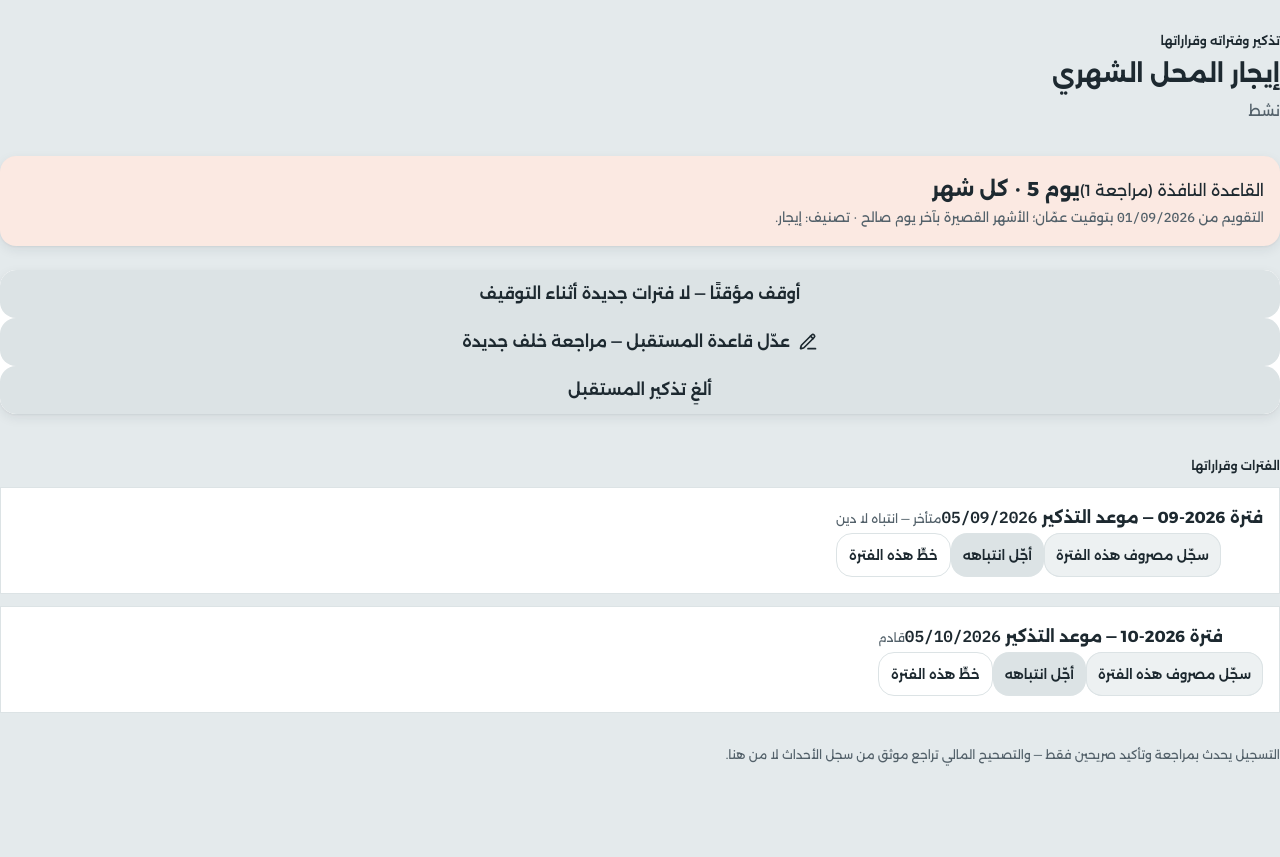
Test: OPS-003 — لوحة التأكيد (DOM) › غياب المبلغ رفض صادر بلا كتابة — «لم يُسجل المصروف» لا يظهر لأن شيئًا لم يُدَّع
Click the button "سجّل مصروف هذه الفترة" below "2026-09" at (1133, 555), box [1044,533,1221,577]
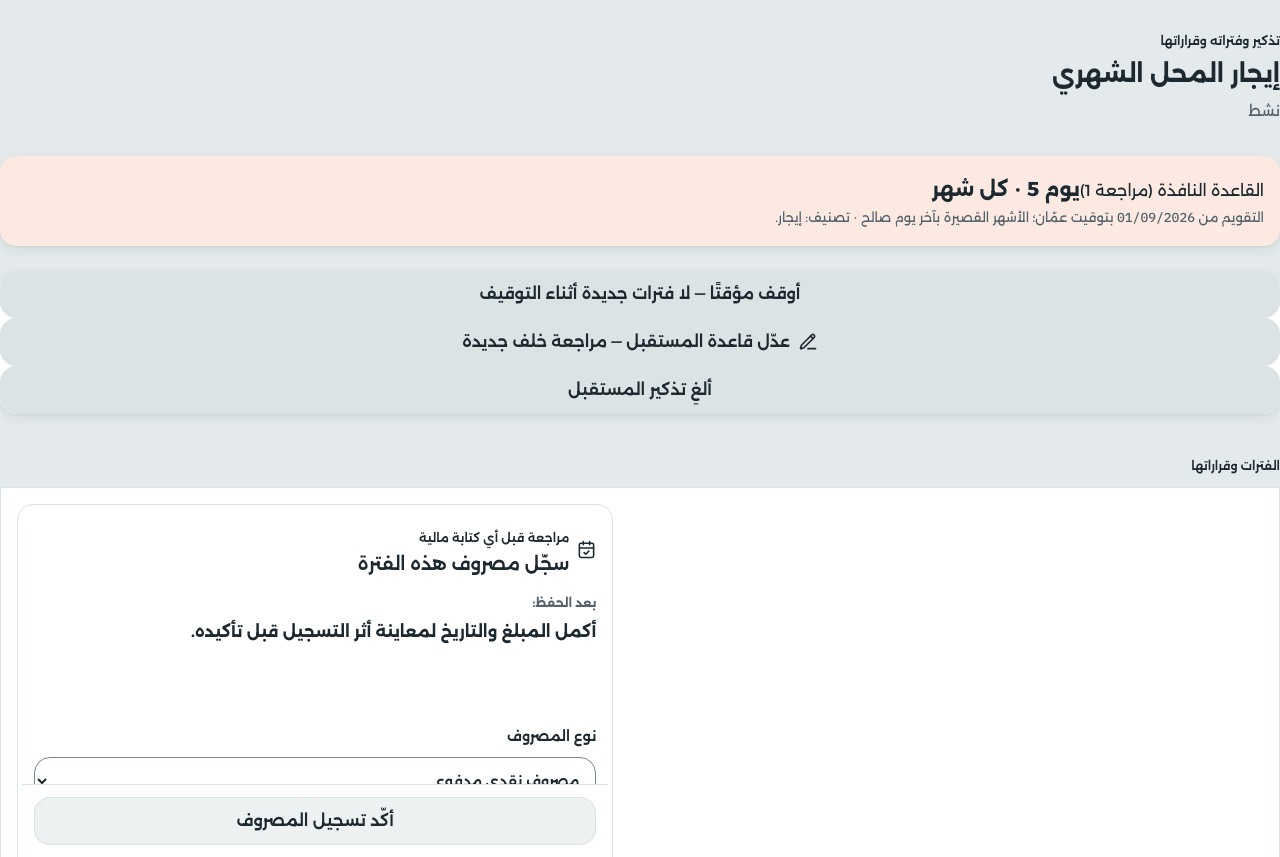
Click the button "أكّد تسجيل المصروف" at (315, 821), box [34,797,596,845]
(page scrolled)
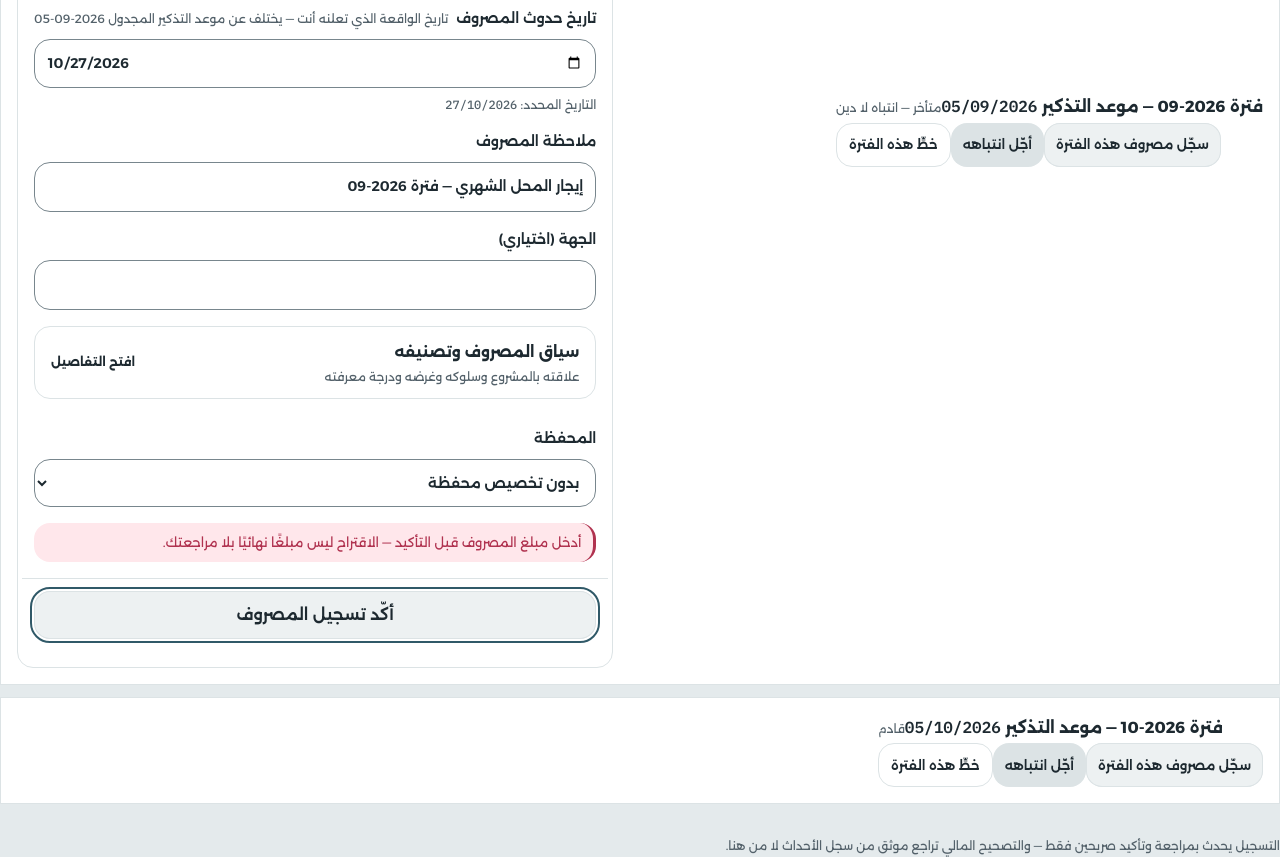
expect the text "أدخل مبلغ المصروف قبل التأكيد — الاقتراح ليس مبلغًا نهائيًا بلا مراجعتك." is shown: met, box [34,523,596,562]
